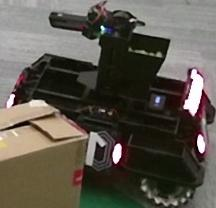light: (183, 68, 204, 115)
